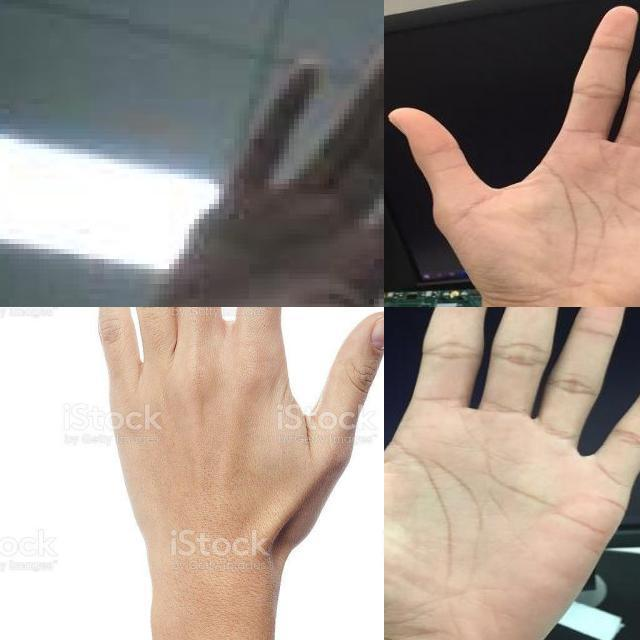no-gloves: (384, 307, 640, 640), (94, 307, 384, 592), (385, 1, 640, 307), (129, 34, 384, 307)
